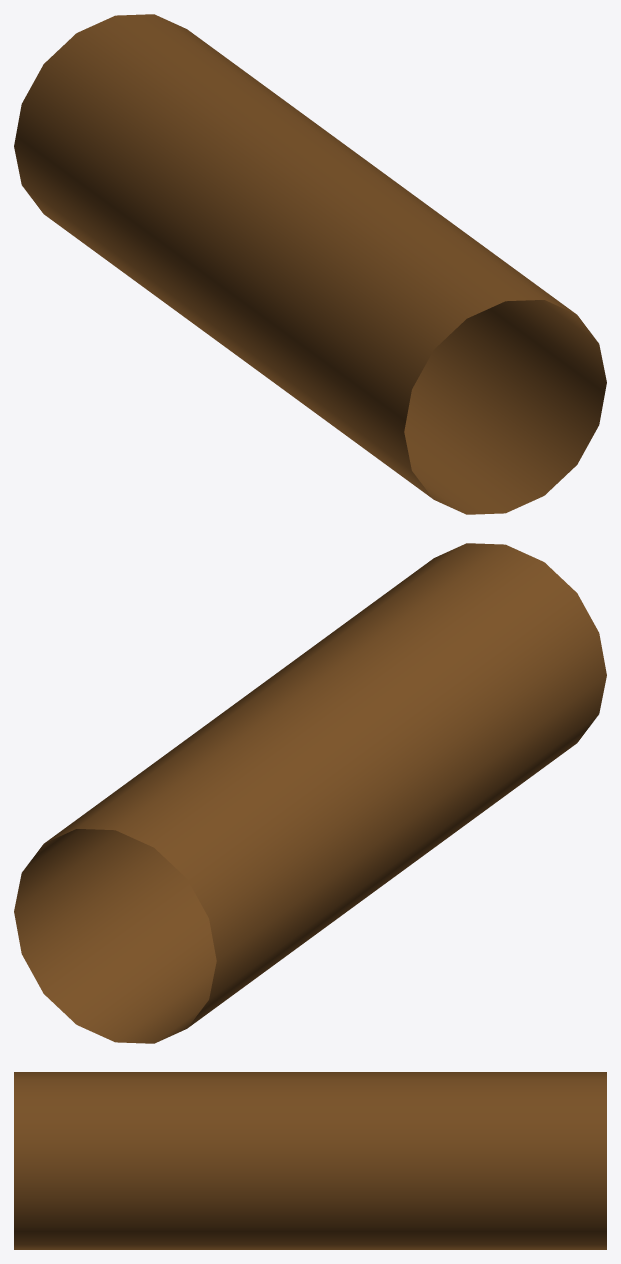
The model's file is Log_middle.fbx.
3 renders of one model, top to bottom at view 1: azimuth 30°, elevation 25°; view 2: azimuth 150°, elevation 25°; view 3: azimuth 270°, elevation 25°, orthographic. The views are drawn at different scales.
Parts seen in each view (by area): view 1: Log_middle; view 2: Log_middle; view 3: Log_middle.
Boxes of the visible parts, x1,y1,x2,y2 form: Log_middle: (14, 14, 606, 514); Log_middle: (14, 543, 606, 1043); Log_middle: (14, 1072, 606, 1249).
Size of the model in its own units: 600 by 600 by 2000.
